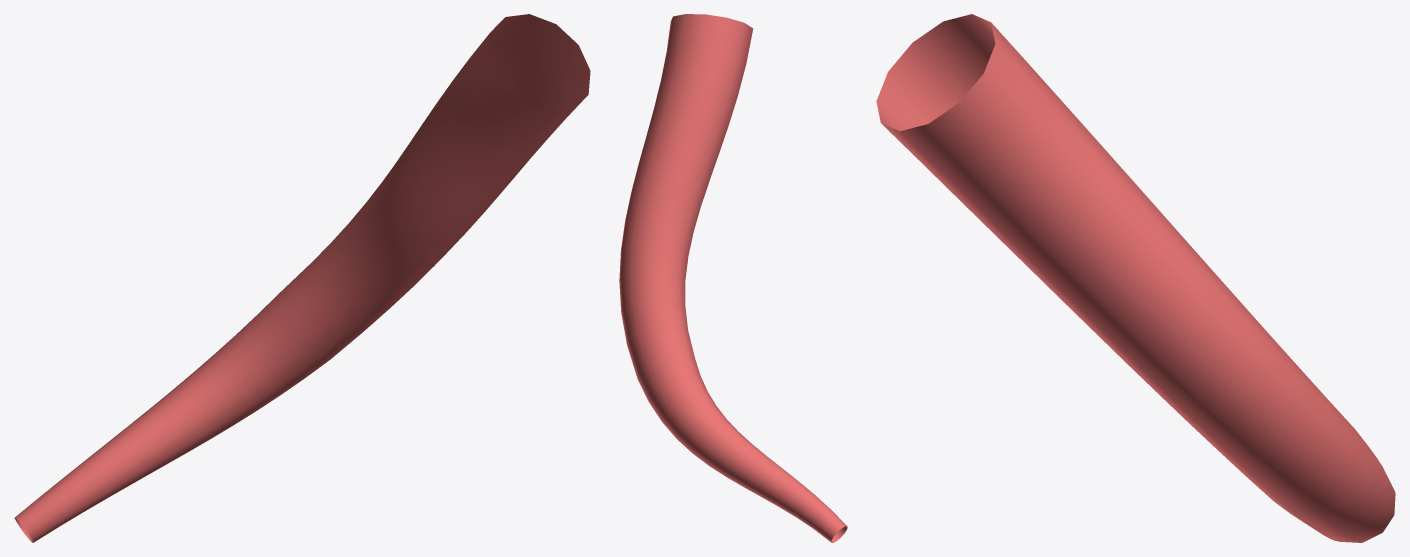
The model's file is Calcaneal_branches_fibular_artery_left.glb.
3 renders of one model, left to right at view 1: azimuth 30°, elevation 25°; view 2: azimuth 150°, elevation 25°; view 3: azimuth 270°, elevation 25°, orthographic. The views are drawn at different scales.
Parts seen in each view (by area): view 1: Calcaneal_branches_of_fibular_artery.l_BezierCurve.366; view 2: Calcaneal_branches_of_fibular_artery.l_BezierCurve.366; view 3: Calcaneal_branches_of_fibular_artery.l_BezierCurve.366.
Part boxes in pixels (left/top/right/bottom): Calcaneal_branches_of_fibular_artery.l_BezierCurve.366: left=14, top=14, right=590, bottom=542; Calcaneal_branches_of_fibular_artery.l_BezierCurve.366: left=619, top=14, right=847, bottom=542; Calcaneal_branches_of_fibular_artery.l_BezierCurve.366: left=876, top=14, right=1395, bottom=542.
Bounding box in the file's own units: 0.00867 × 0.0113 × 0.00763.
